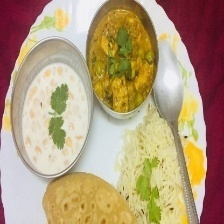sabzi: (86, 6, 157, 115)
